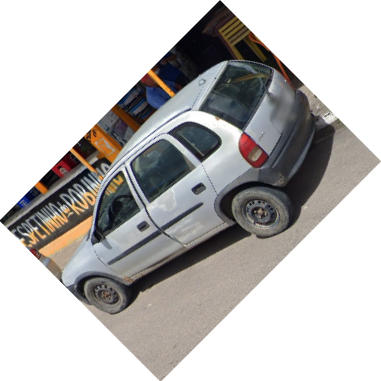car: (59, 59, 318, 315)
